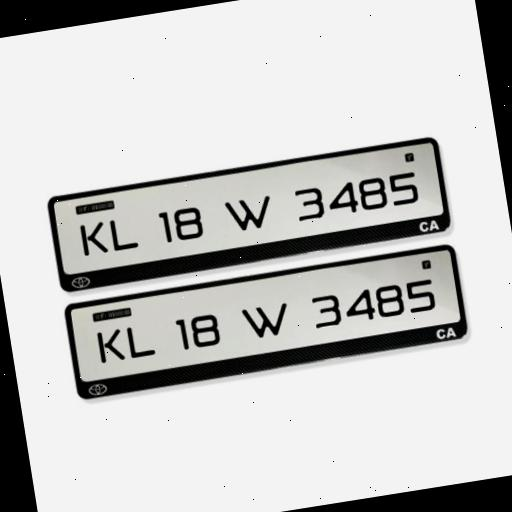number plate: (58, 240, 472, 401), (47, 137, 452, 293)
